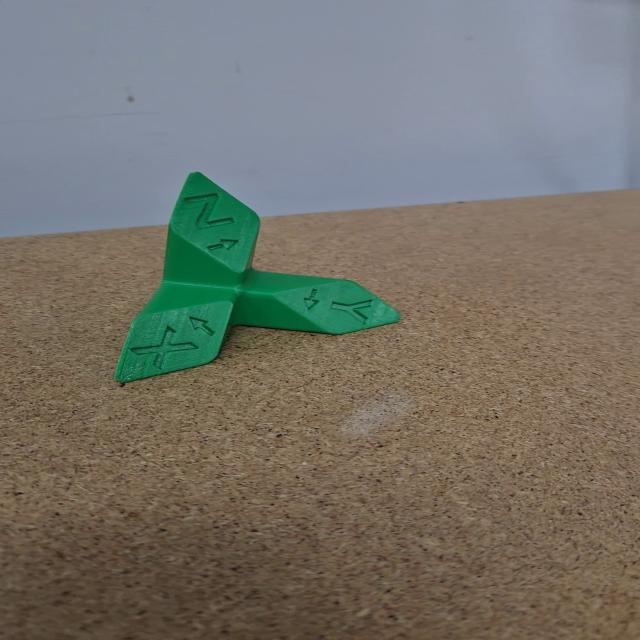objects: (107, 166, 409, 387)
